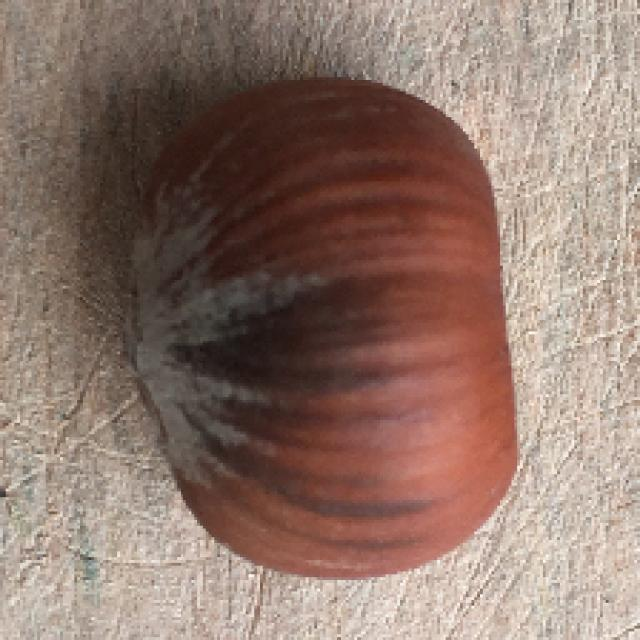qualityHazelnut: (115, 76, 530, 589)
